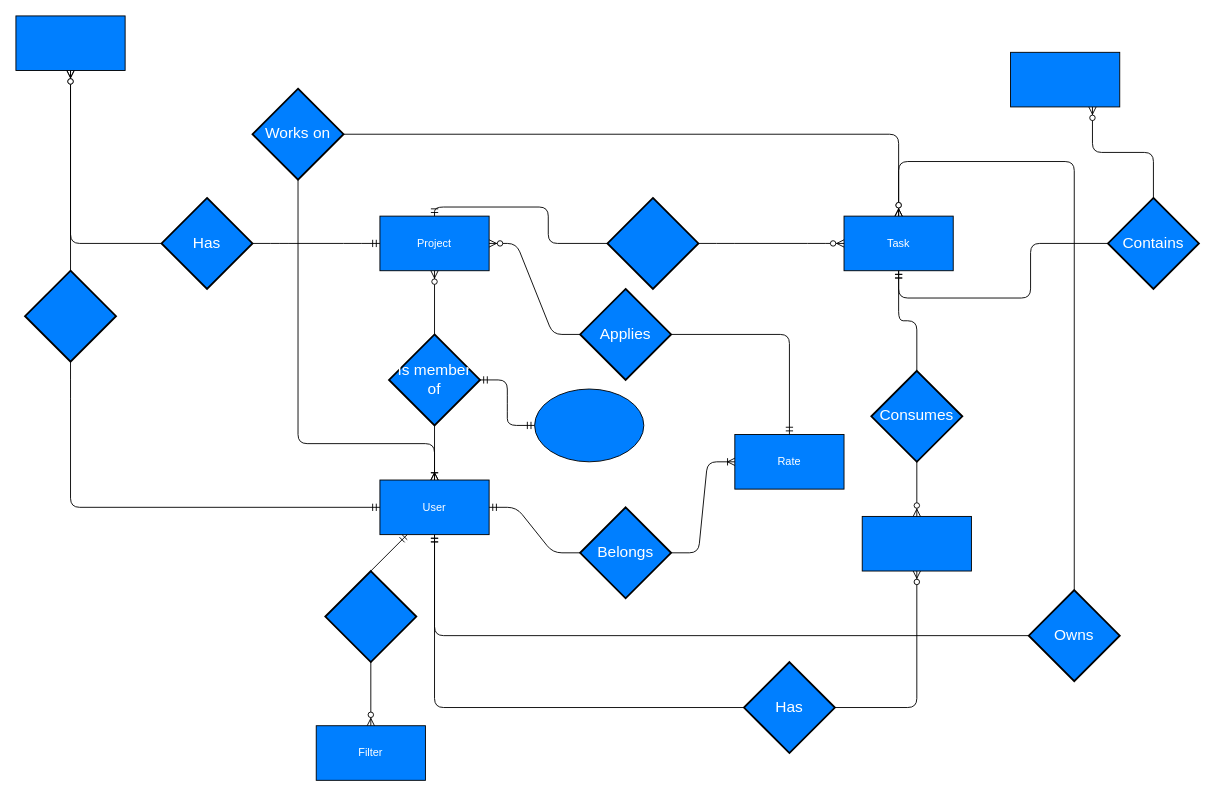
Image size: 1216x796. Some labels were removed from this diagram. The centre of each missing label's shape, as x and y in pixels:
"Attachment" belongs at point 1065,79.
"Consists of" belongs at point 652,243.
"Issue" belongs at point 70,43.
"Predefines" belongs at point 370,616.
"Reports" belongs at point 70,315.
"Role" belongs at point 589,425.
"TimeEntry" belongs at point 916,543.
